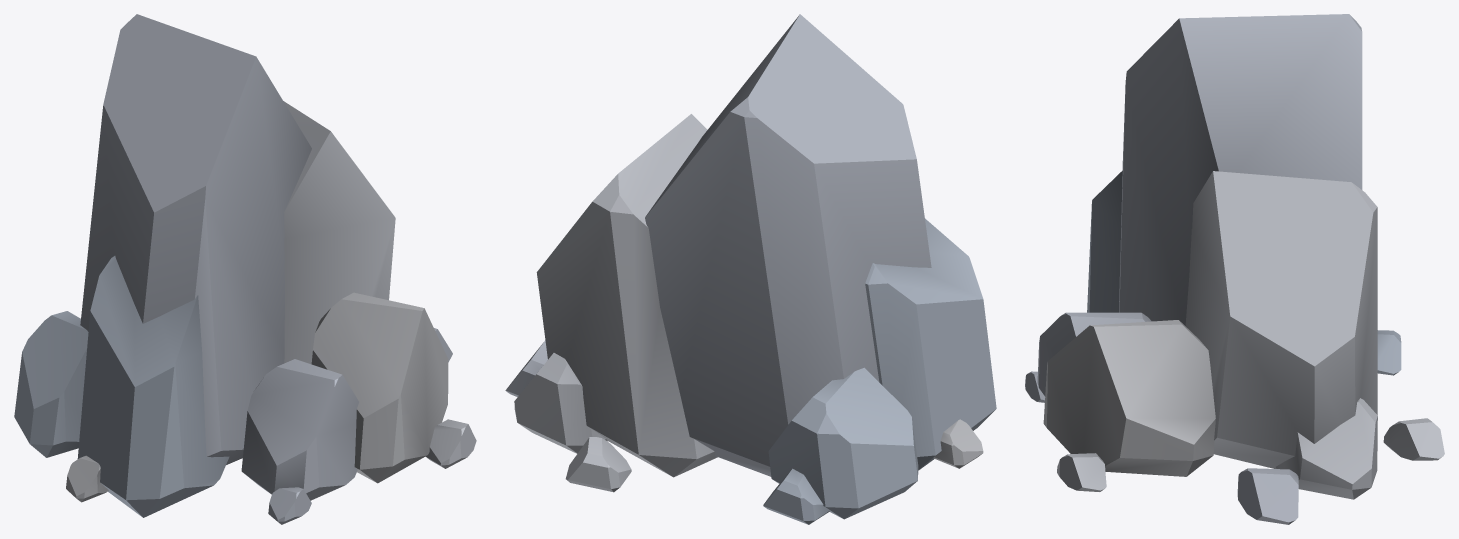
File: escarpment-0.glb
3 views of the same model, side by side, from view 1: azimuth 30°, elevation 25°; view 2: azimuth 150°, elevation 25°; view 3: azimuth 270°, elevation 25° (orthographic).
Parts seen in each view (by area): view 1: Cube, Cube.002, Cube.003, Cube.001, Cube.004, Cube.006, Cube.012, Cube.010, Cube.011; view 2: Cube, Cube.001, Cube.002, Cube.006, Cube.005, Cube.008, Cube.009, Cube.010, Cube.007; view 3: Cube.001, Cube, Cube.003, Cube.005, Cube.002, Cube.007, Cube.004, Cube.008, Cube.012, Cube.009.
Part boxes in pixels (bbox=[...]): Cube: bbox=[80, 14, 311, 464]; Cube.002: bbox=[77, 256, 229, 517]; Cube.003: bbox=[311, 292, 448, 483]; Cube.001: bbox=[283, 101, 395, 364]; Cube.004: bbox=[241, 359, 358, 500]; Cube.006: bbox=[14, 311, 88, 457]; Cube.012: bbox=[425, 419, 476, 468]; Cube.010: bbox=[66, 455, 108, 502]; Cube.011: bbox=[268, 487, 311, 524]; Cube: bbox=[645, 14, 931, 476]; Cube.001: bbox=[536, 114, 717, 477]; Cube.002: bbox=[865, 218, 996, 470]; Cube.006: bbox=[768, 367, 918, 519]; Cube.005: bbox=[514, 353, 607, 453]; Cube.008: bbox=[565, 437, 631, 492]; Cube.009: bbox=[763, 468, 829, 524]; Cube.010: bbox=[933, 419, 983, 468]; Cube.007: bbox=[505, 340, 547, 396]; Cube.001: bbox=[1185, 171, 1377, 468]; Cube: bbox=[1119, 14, 1362, 325]; Cube.003: bbox=[1043, 320, 1215, 476]; Cube.005: bbox=[1276, 398, 1377, 499]; Cube.002: bbox=[1087, 171, 1122, 312]; Cube.007: bbox=[1237, 468, 1298, 524]; Cube.004: bbox=[1037, 312, 1151, 396]; Cube.008: bbox=[1383, 418, 1444, 460]; Cube.012: bbox=[1057, 453, 1106, 491]; Cube.009: bbox=[1377, 330, 1401, 375].
Bounding box in the file's own units: 1.52 × 1.43 × 1.33.
